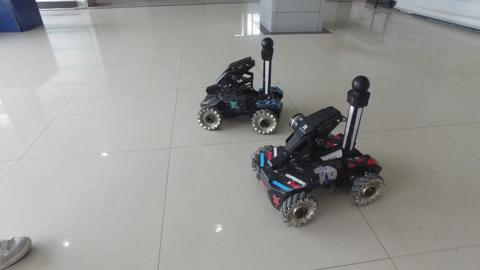chariot: (242, 72, 390, 234), (197, 36, 286, 143)
